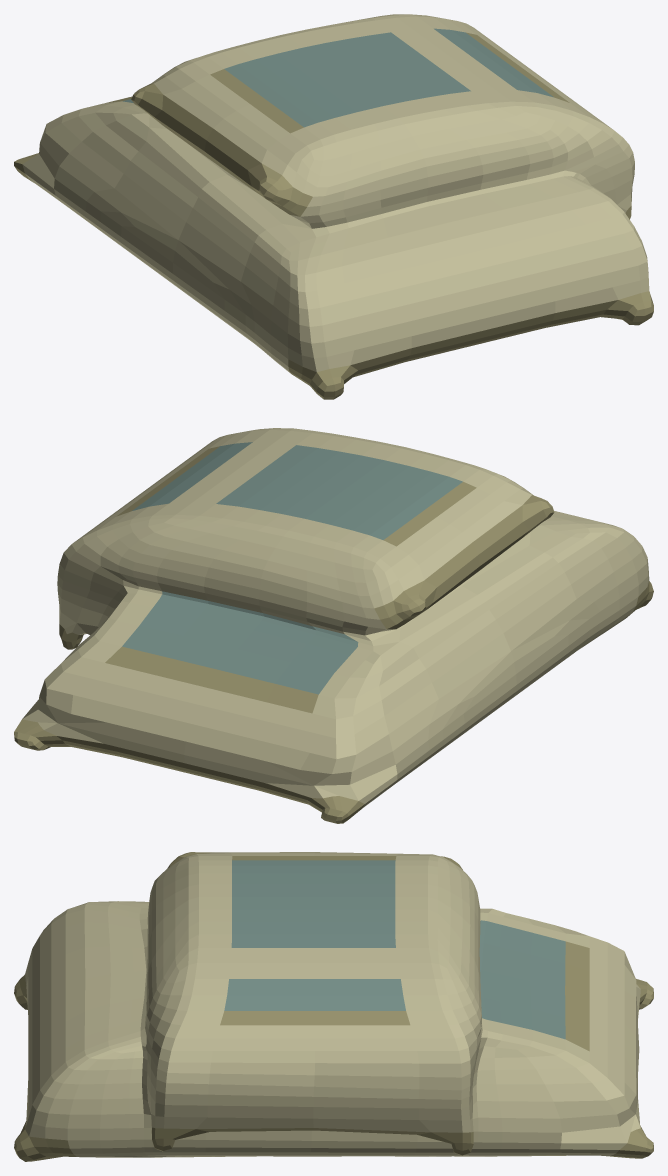
The model's file is sack1.fbx.
3 views of the same model, one above another, from view 1: azimuth 30°, elevation 25°; view 2: azimuth 150°, elevation 25°; view 3: azimuth 270°, elevation 25° (orthographic). The views are drawn at different scales.
Visible parts, largest first — view 1: Cube; view 2: Cube; view 3: Cube.
Boxes of the visible parts, left/top/right/bottom form: Cube: left=14, top=14, right=653, bottom=399; Cube: left=14, top=428, right=653, bottom=823; Cube: left=14, top=852, right=653, bottom=1161.
Size of the model in its own units: 377 by 169 by 519.
